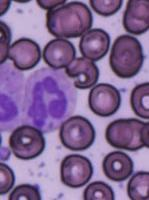N: (23, 67, 77, 132)
